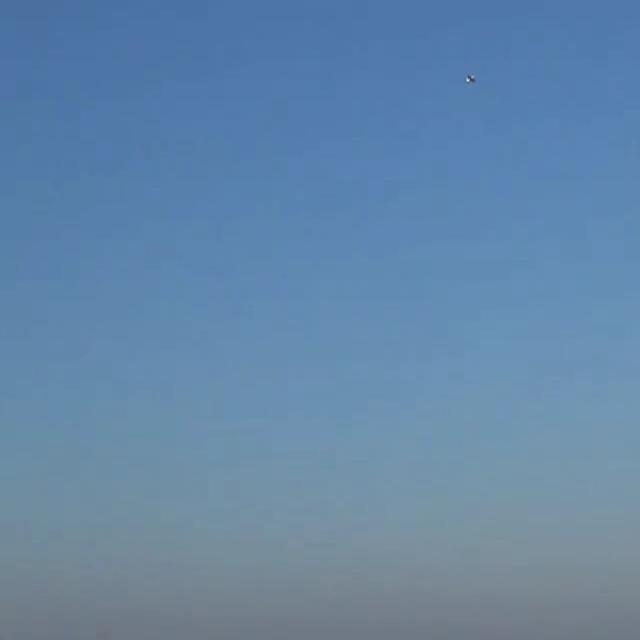AirPlane: (456, 68, 483, 92)
